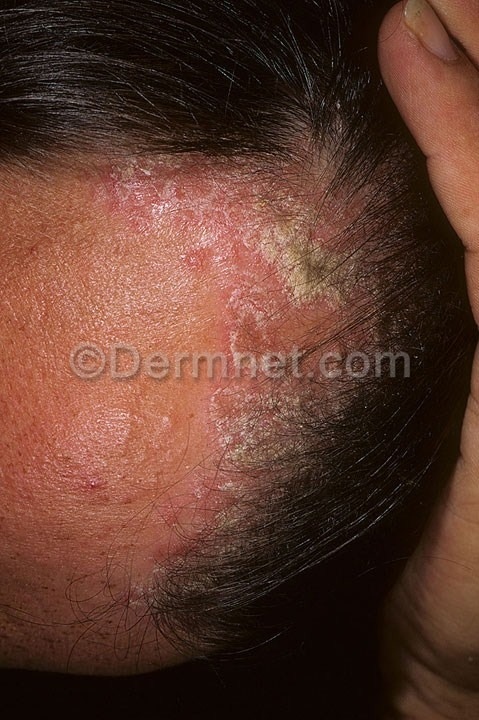Psoriasis: (97, 156, 377, 351), (197, 371, 333, 538)
